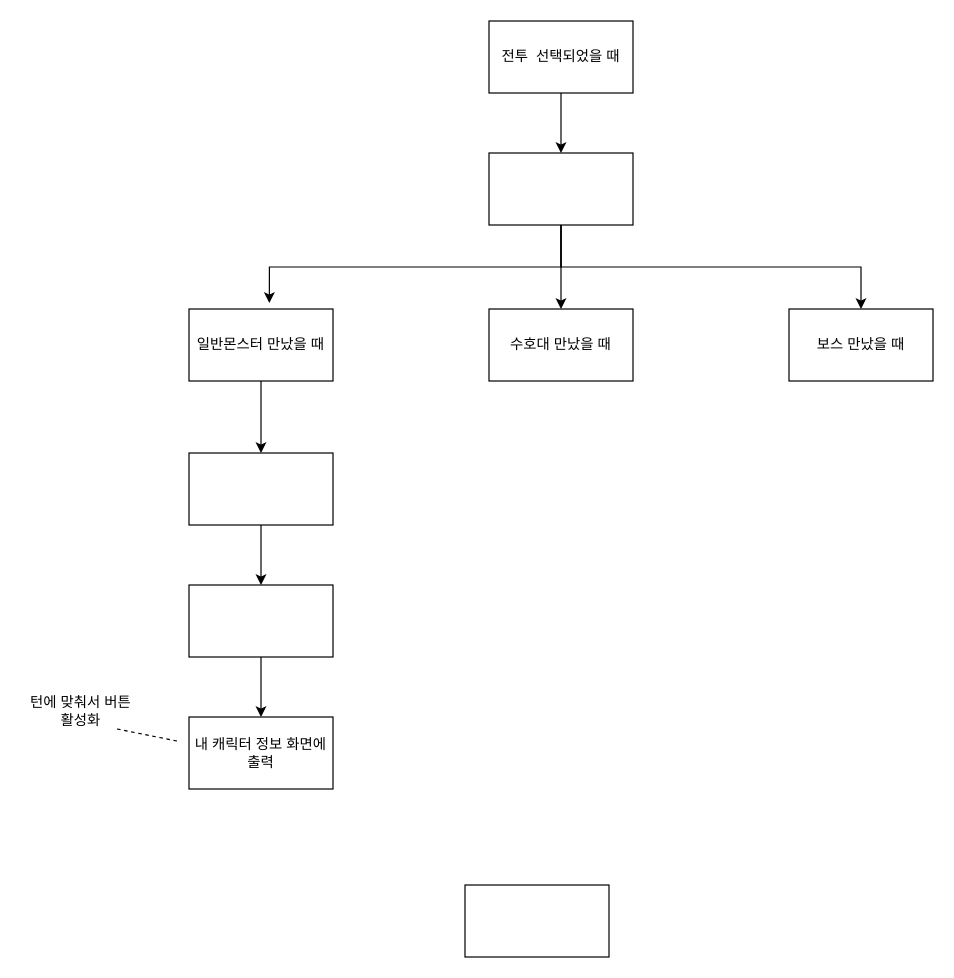
Image size: 954x978. Some labels were removed from this diagram. The box of each missing label's shape, as (x1, y1, x2, y2) in pixels:
맵에 따라 다른 몬스터 출현 (숲, 얼음, 물, 불): (188, 452, 333, 525)
몬스터 정보 화면에 출력: (188, 584, 333, 657)
전투로 창이동 시키기: (488, 152, 633, 225)
